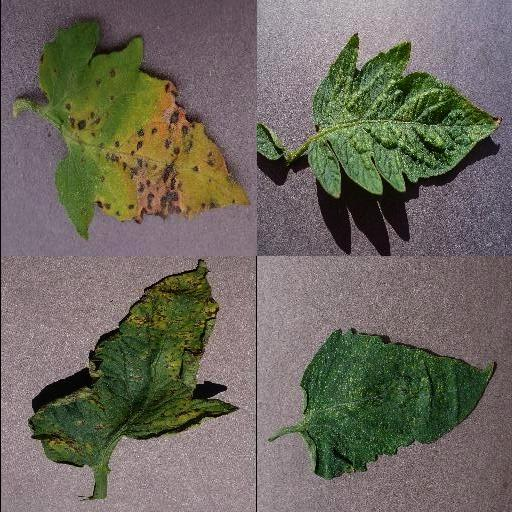Septoria: (36, 22, 250, 241), (30, 259, 238, 467)
Spider Mites: (306, 35, 502, 200), (297, 327, 495, 481)
